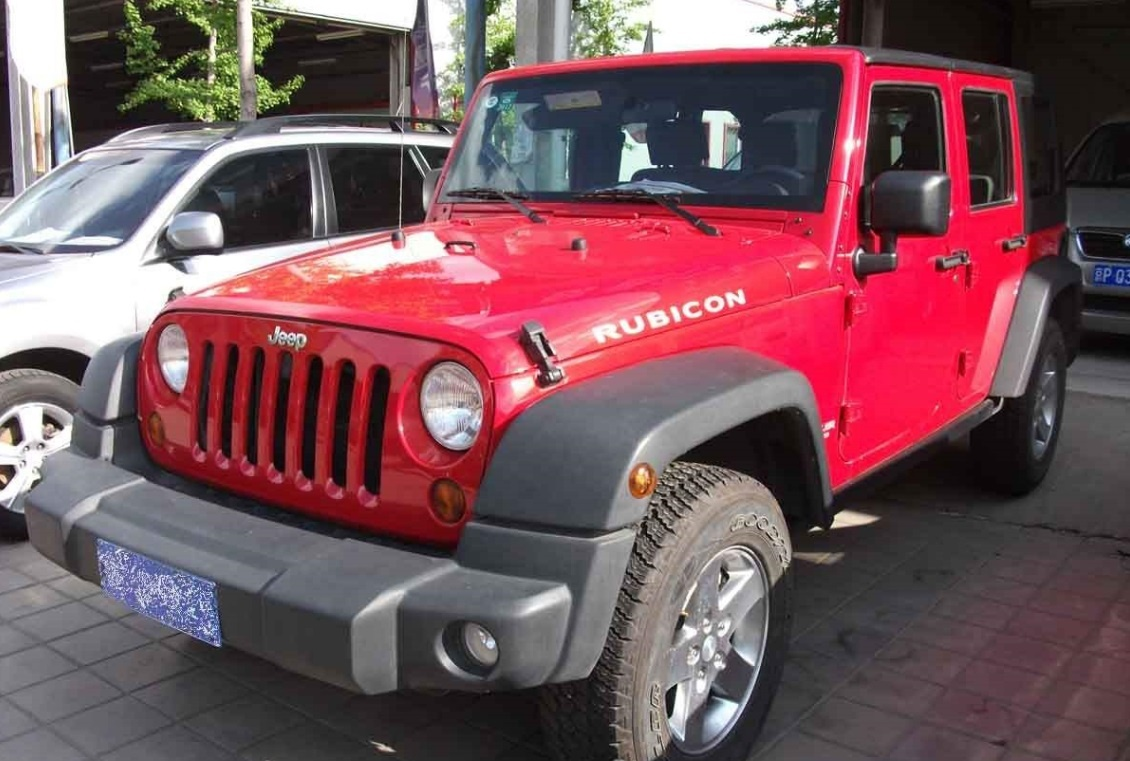jeep: (93, 59, 1097, 725)
